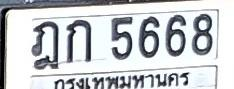5: (111, 16, 132, 60)
6: (165, 14, 186, 56), (138, 16, 159, 58)
8: (192, 13, 212, 55)
A01: (66, 19, 91, 63)
A14: (31, 20, 60, 69)
BKK: (50, 71, 191, 89)
